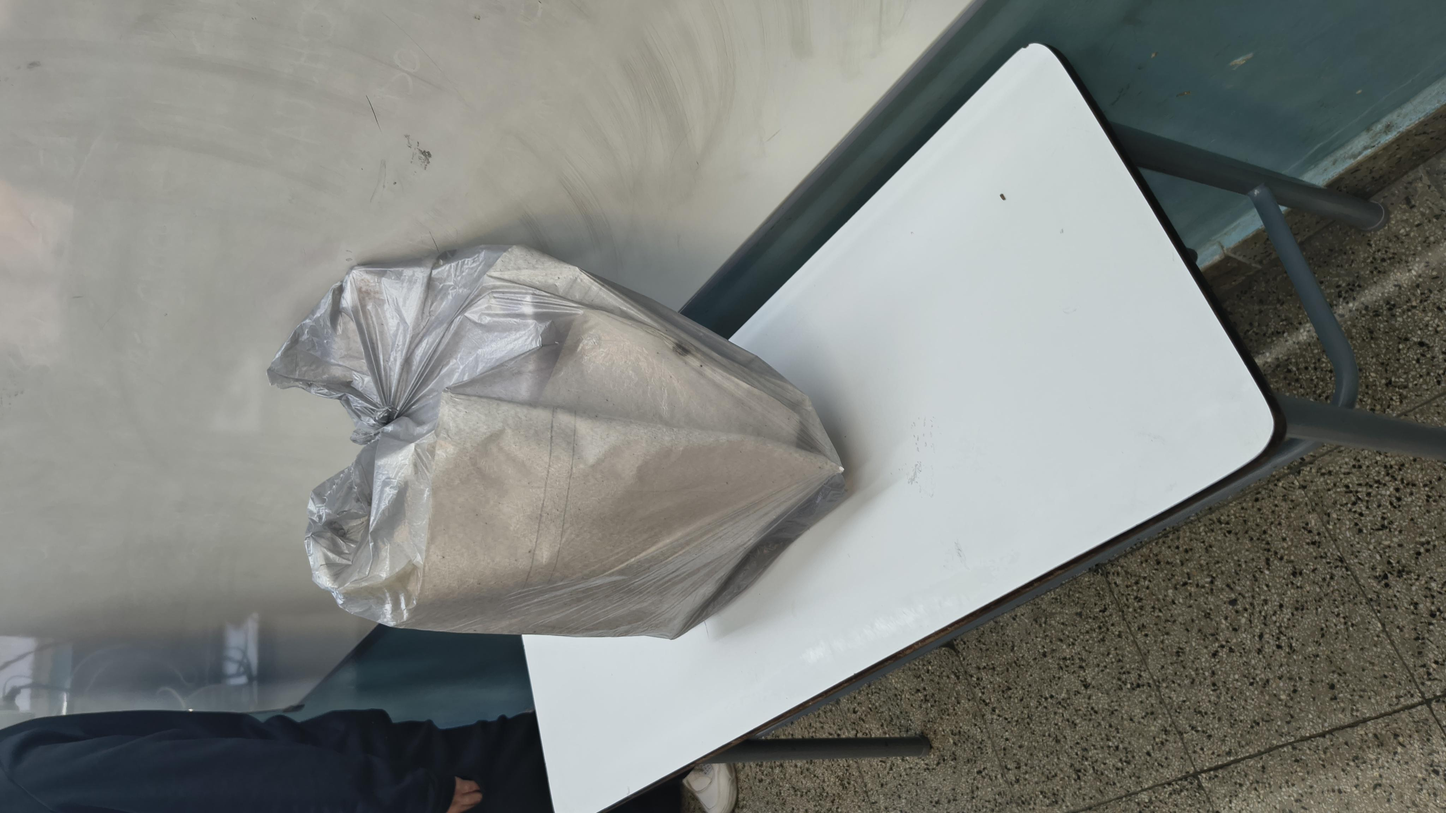Garbage: (232, 127, 1136, 504)
